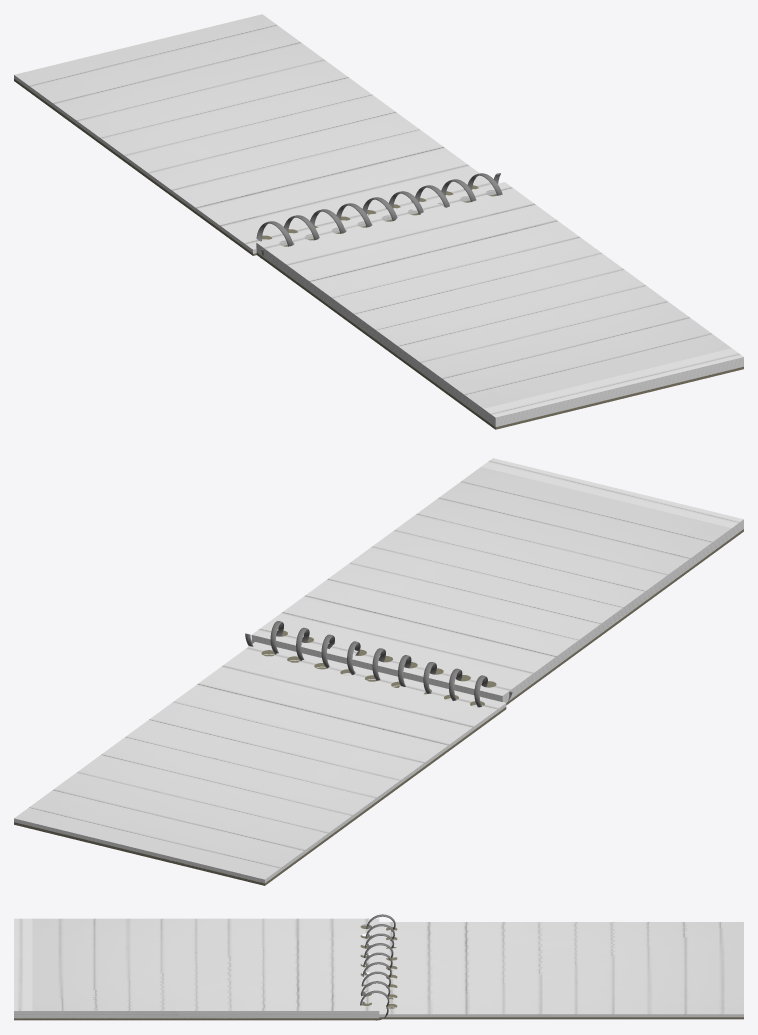
Rendered from PS_OpenNotepad_15_DF.fbx.
3 renders of one model, top to bottom at view 1: azimuth 30°, elevation 25°; view 2: azimuth 150°, elevation 25°; view 3: azimuth 270°, elevation 25°, orthographic. The views are drawn at different scales.
Parts seen in each view (by area): view 1: LinedPaper, CoverandBack, Prongs; view 2: LinedPaper, CoverandBack, Prongs; view 3: LinedPaper, CoverandBack, Prongs.
Part boxes in pixels (x1,y1,x2,y2): LinedPaper: (14, 14, 743, 427); CoverandBack: (14, 79, 743, 429); Prongs: (256, 173, 502, 255); LinedPaper: (14, 458, 743, 883); CoverandBack: (14, 529, 743, 885); Prongs: (245, 621, 512, 707); LinedPaper: (14, 918, 743, 1018); CoverandBack: (14, 926, 743, 1020); Prongs: (360, 914, 395, 1020).
Size of the model in its own units: 0.0777 by 0.00937 by 0.2539.
3 materials, 1 textured.
